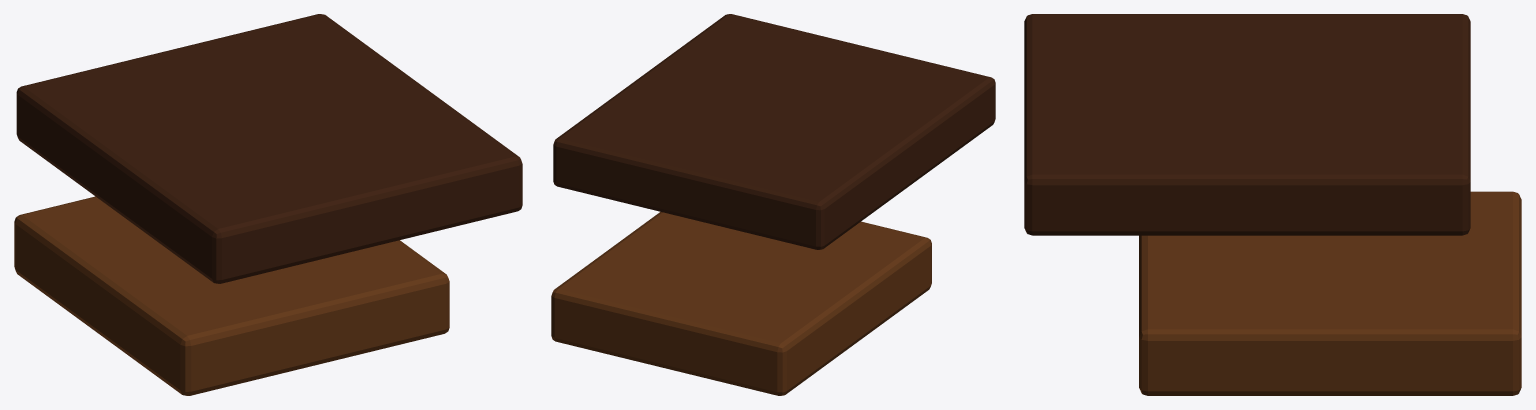
File: ballista_orientable_LOD1.glb
3 views of the same model, side by side, from view 1: azimuth 30°, elevation 25°; view 2: azimuth 150°, elevation 25°; view 3: azimuth 270°, elevation 25° (orthographic). The views are drawn at different scales.
Visible parts, largest first — view 1: LOD1_Weapon, LOD1_Base; view 2: LOD1_Weapon, LOD1_Base; view 3: LOD1_Weapon, LOD1_Base.
Part boxes in pixels (<box>): LOD1_Weapon: <box>16,14,522,283</box>; LOD1_Base: <box>14,196,449,395</box>; LOD1_Weapon: <box>553,14,995,249</box>; LOD1_Base: <box>551,212,931,395</box>; LOD1_Weapon: <box>1024,14,1470,235</box>; LOD1_Base: <box>1139,191,1521,395</box>.
Bounding box in the file's own units: 2.48 × 1.61 × 3.12.
